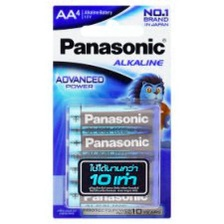battery: (65, 101, 163, 135), (63, 175, 160, 208), (64, 150, 162, 181), (63, 130, 162, 155)
book: (44, 4, 174, 221)
